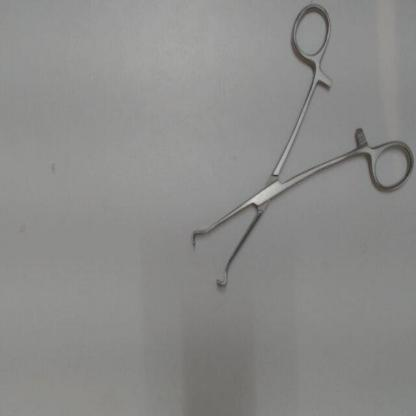Babcock Tissue Forceps: (188, 1, 414, 293)
